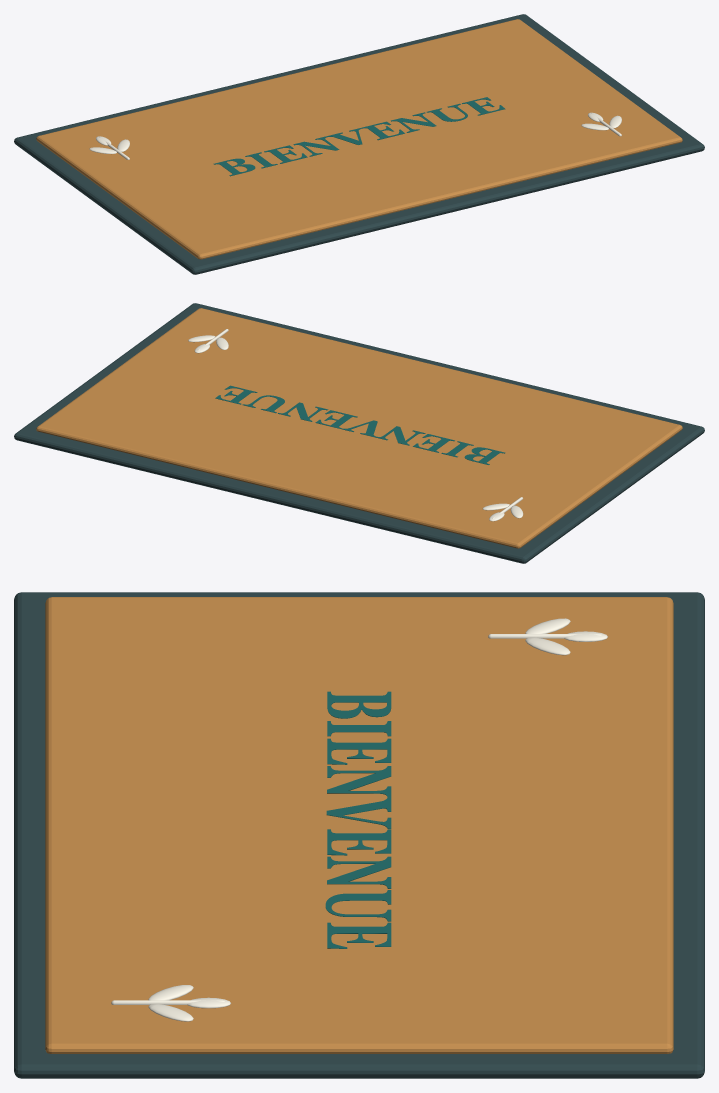
The model's file is welcome_doormat.glb.
The picture shows the model from 3 angles, top to bottom: view 1: azimuth 30°, elevation 25°; view 2: azimuth 150°, elevation 25°; view 3: azimuth 270°, elevation 25°; orthographic projection. The views are drawn at different scales.
Parts seen in each view (by area): view 1: Honey_coir_insert, Rubber_backing, Flat_welcome; view 2: Honey_coir_insert, Rubber_backing, Flat_welcome; view 3: Honey_coir_insert, Rubber_backing, Flat_welcome.
Part boxes in pixels (box(x1,y1,x2,y2)): Honey_coir_insert: box(36, 19, 682, 259); Rubber_backing: box(14, 14, 704, 274); Flat_welcome: box(213, 97, 505, 176); Honey_coir_insert: box(36, 308, 682, 548); Rubber_backing: box(14, 303, 704, 563); Flat_welcome: box(215, 385, 505, 464); Honey_coir_insert: box(45, 597, 673, 1053); Rubber_backing: box(14, 592, 704, 1078); Flat_welcome: box(325, 691, 391, 948).
Size of the model in its own units: 0.9 by 0.0221 by 0.55.
